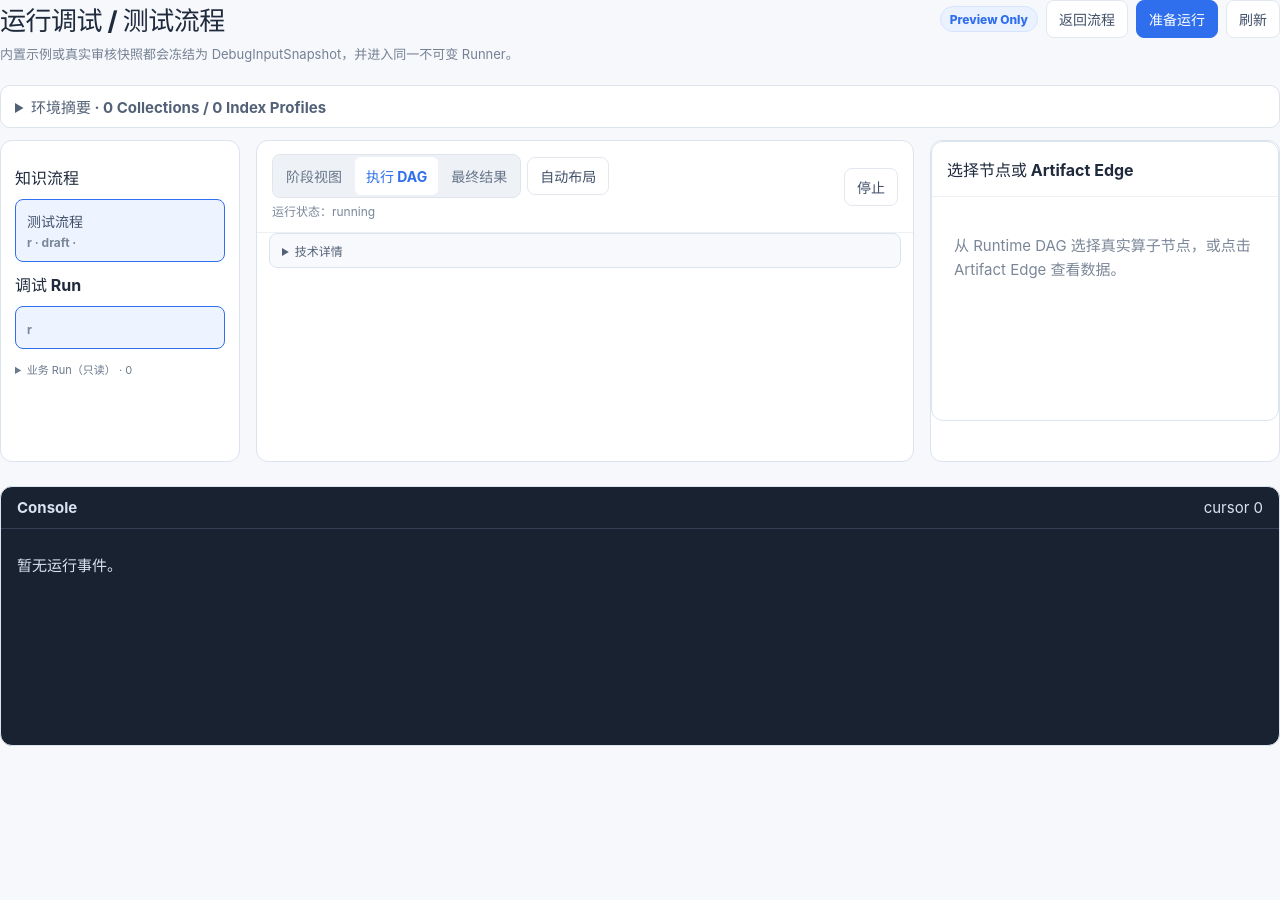
Scenario: honors semantic preflight valid=true and displays node-level issues
Click the button "准备运行": (1177, 19) left=1136, top=0, right=1218, bottom=38
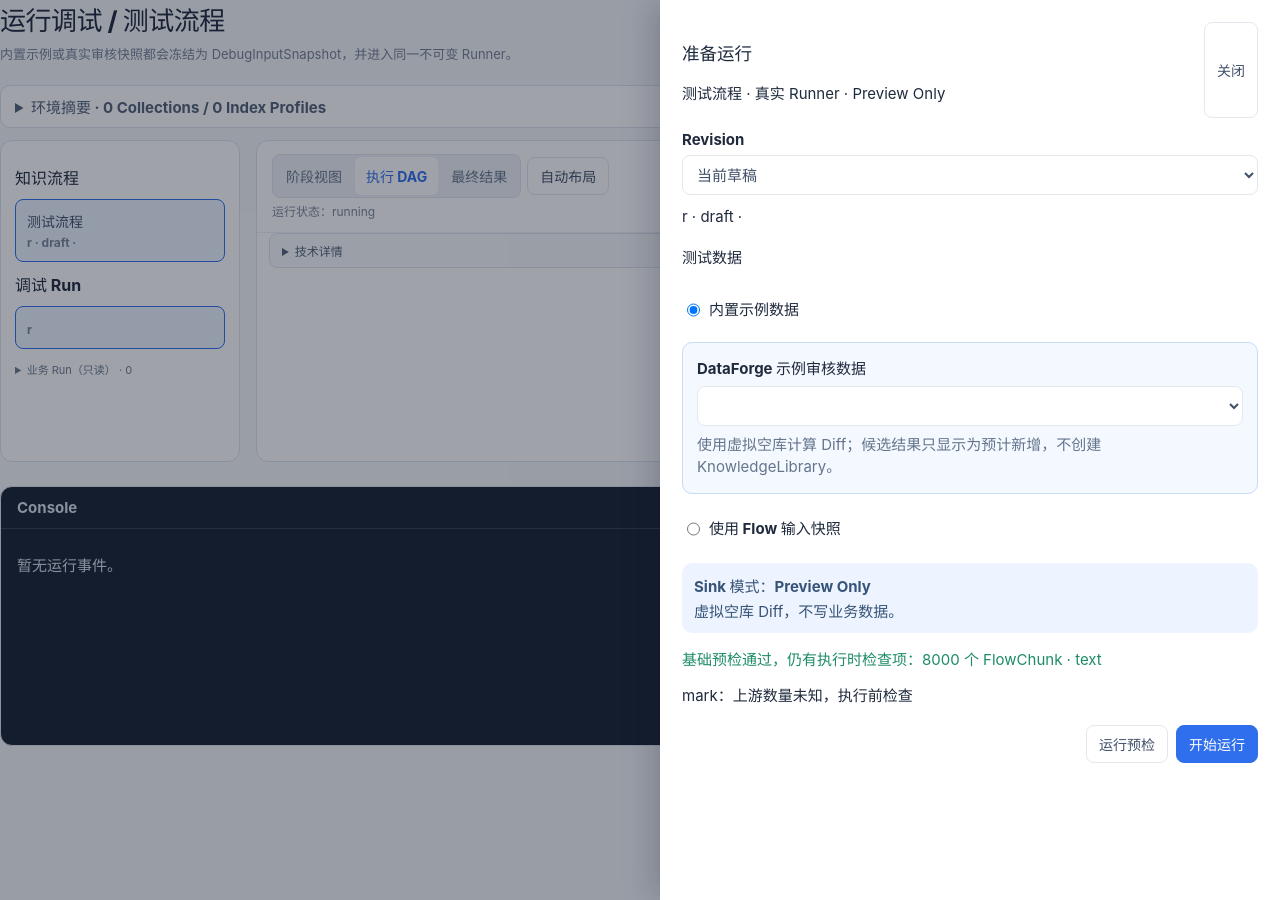
Expected: the element with class "drawer" shows "上游数量未知", left=682, top=686, right=913, bottom=705
Expected: the button "开始运行" is enabled, left=1176, top=725, right=1258, bottom=763
Expected: the element with class "drawer" shows "仍有执行时检查项", left=682, top=650, right=1102, bottom=669
